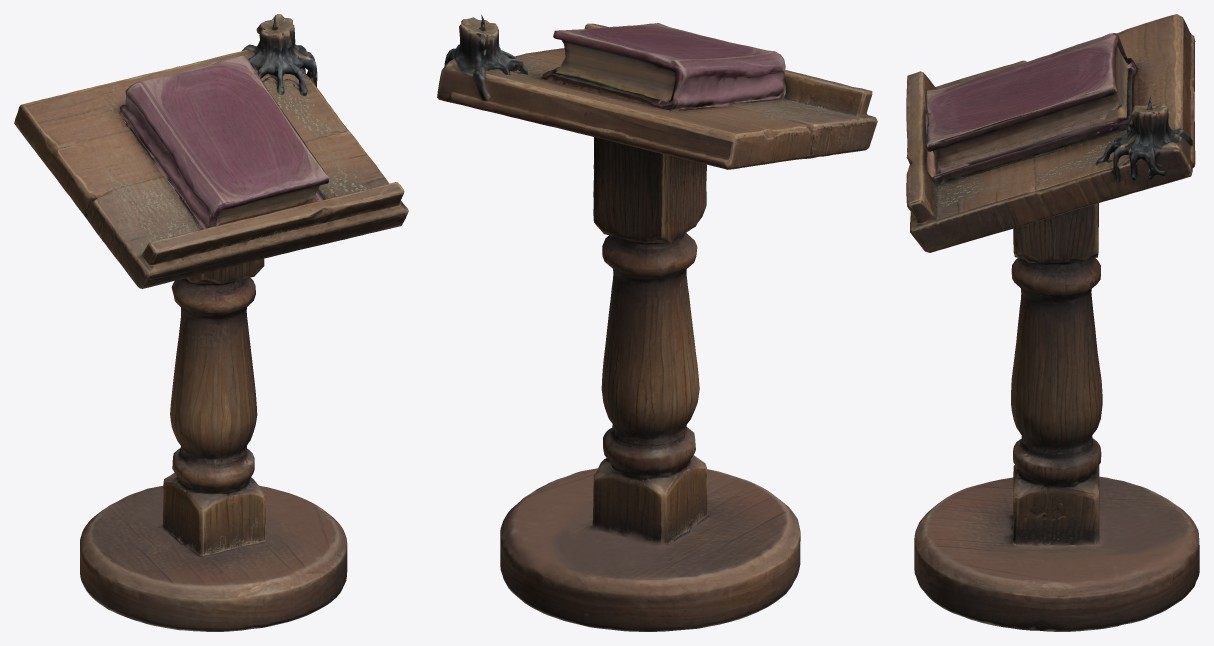
Rendered from Furn_Lectern.fbx.
3 renders of one model, left to right at view 1: azimuth 30°, elevation 25°; view 2: azimuth 150°, elevation 25°; view 3: azimuth 270°, elevation 25°, orthographic. The views are drawn at different scales.
Visible parts, largest first — view 1: texture_mapping; view 2: texture_mapping; view 3: texture_mapping.
Boxes of the visible parts, x1,y1,x2,y2 form: texture_mapping: (14, 14, 408, 631); texture_mapping: (437, 14, 877, 631); texture_mapping: (906, 14, 1199, 631).
Bounding box in the file's own units: 0.5692 × 0.4981 × 0.9977.
Materials: 1 (1 with a texture image).
